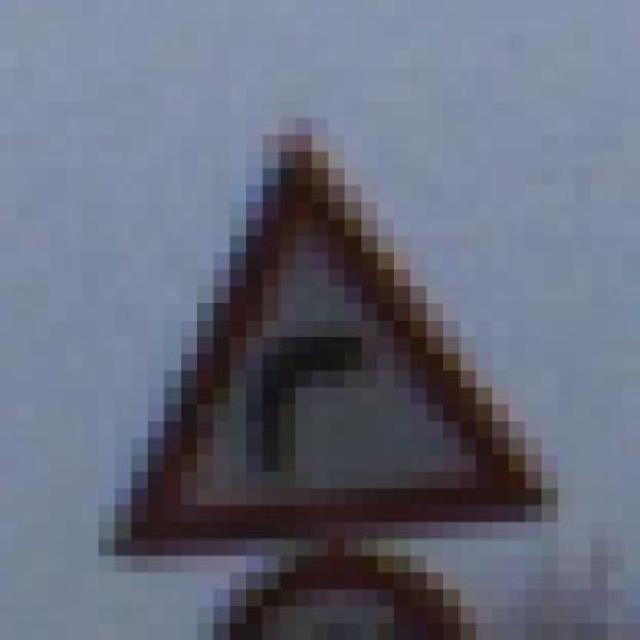Dangerous Rright Curve Ahead: (63, 126, 555, 563)
